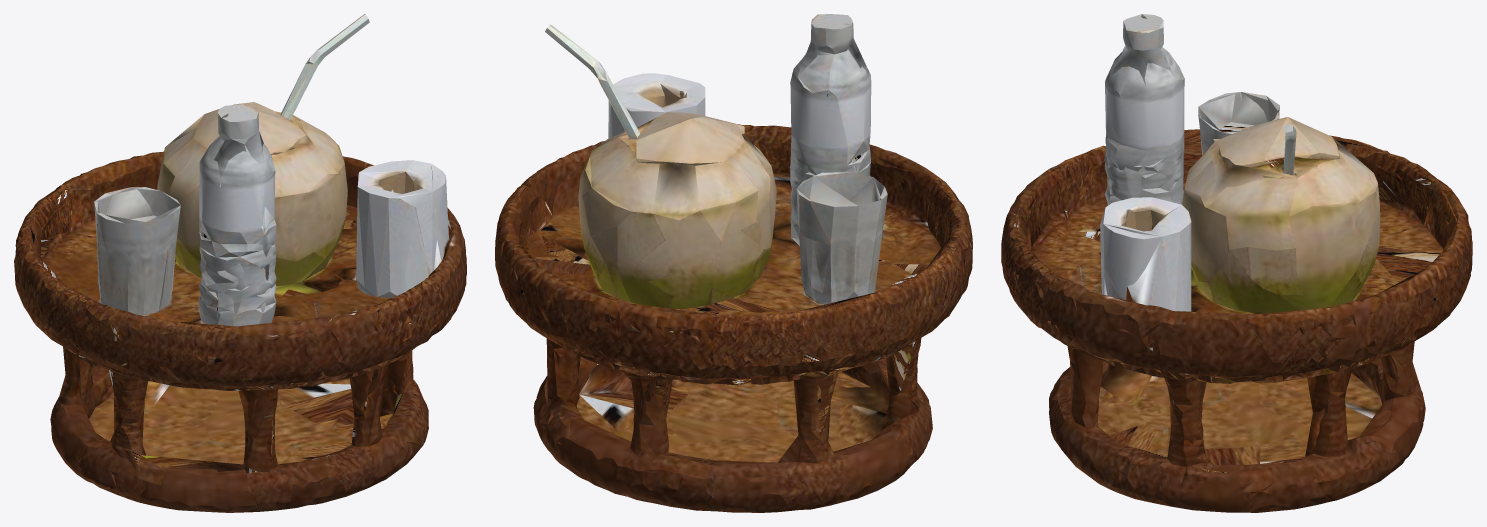
The model's file is w3khantok.glb.
3 renders of one model, left to right at view 1: azimuth 30°, elevation 25°; view 2: azimuth 150°, elevation 25°; view 3: azimuth 270°, elevation 25°, orthographic. The views are drawn at different scales.
Parts seen in each view (by area): view 1: w3khantok_near, w3khantok_far; view 2: w3khantok_near, w3khantok_far; view 3: w3khantok_near, w3khantok_far.
Part boxes in pixels (<box>): w3khantok_near: <box>14,14,466,512</box>; w3khantok_far: <box>21,64,461,501</box>; w3khantok_near: <box>495,14,972,512</box>; w3khantok_far: <box>496,23,972,511</box>; w3khantok_near: <box>1001,14,1472,512</box>; w3khantok_far: <box>1005,14,1472,486</box>.
Bounding box in the file's own units: 0.4 × 0.3665 × 0.4014.
Materials: 1 (1 with a texture image).
